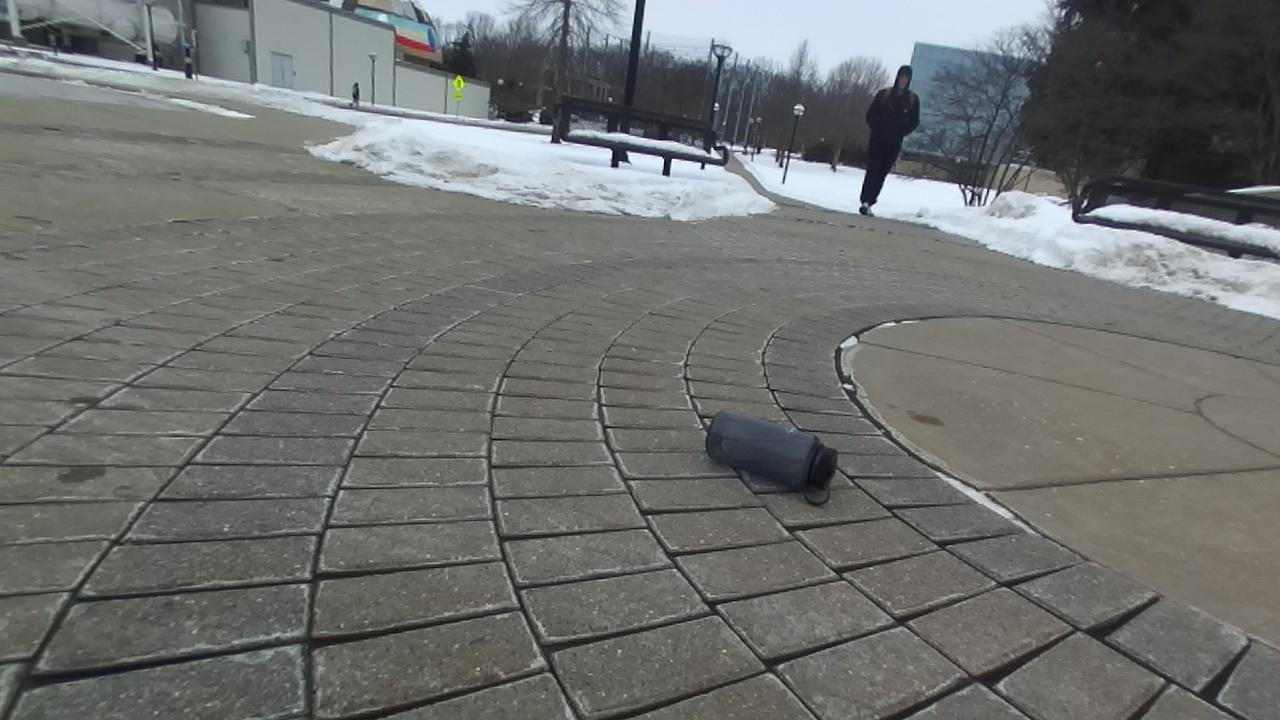bottle: (705, 410, 837, 504)
